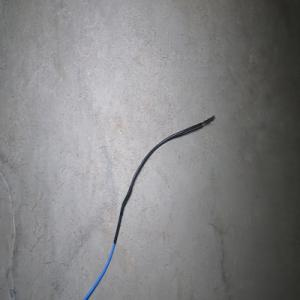Wire: (82, 115, 215, 300)
